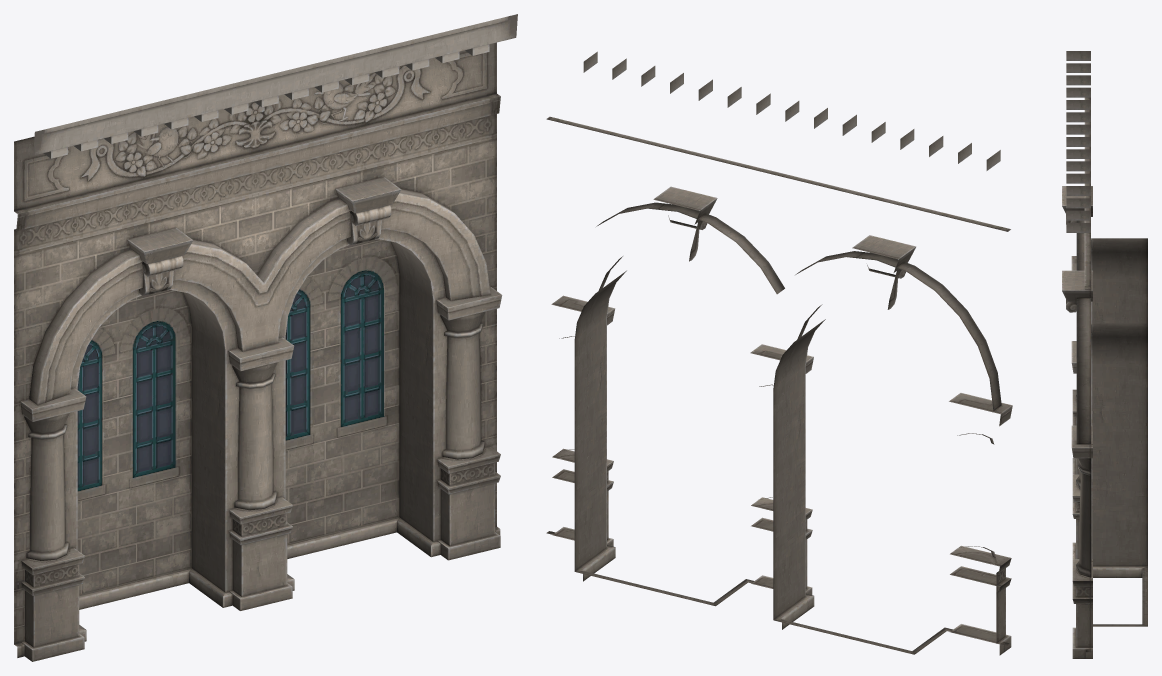
The model's file is t1_b_south_station_front_wall.glb.
3 views of the same model, side by side, from view 1: azimuth 30°, elevation 25°; view 2: azimuth 150°, elevation 25°; view 3: azimuth 270°, elevation 25° (orthographic). The views are drawn at different scales.
Parts seen in each view (by area): view 1: south_station_front_wall; view 2: south_station_front_wall; view 3: south_station_front_wall.
Boxes of the visible parts, bbox=[...] form: south_station_front_wall: bbox=[14, 14, 517, 661]; south_station_front_wall: bbox=[546, 51, 1012, 655]; south_station_front_wall: bbox=[1062, 51, 1147, 658].
Bounding box in the file's own units: 7.65 × 8.16 × 1.5.
1 material, 1 textured.
